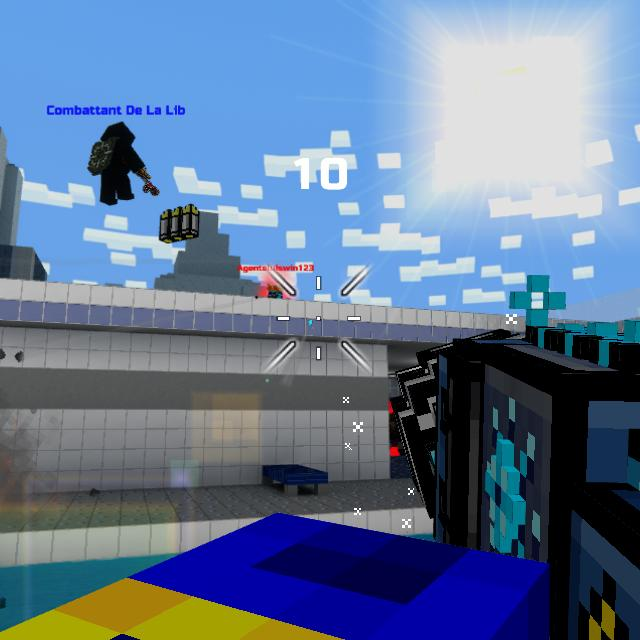Enemy: (264, 281, 292, 298)
